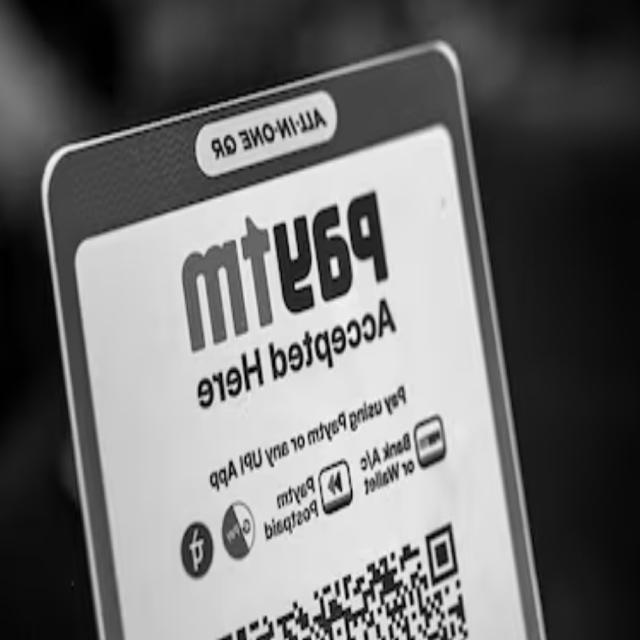fully_visible: (180, 183, 392, 351)
